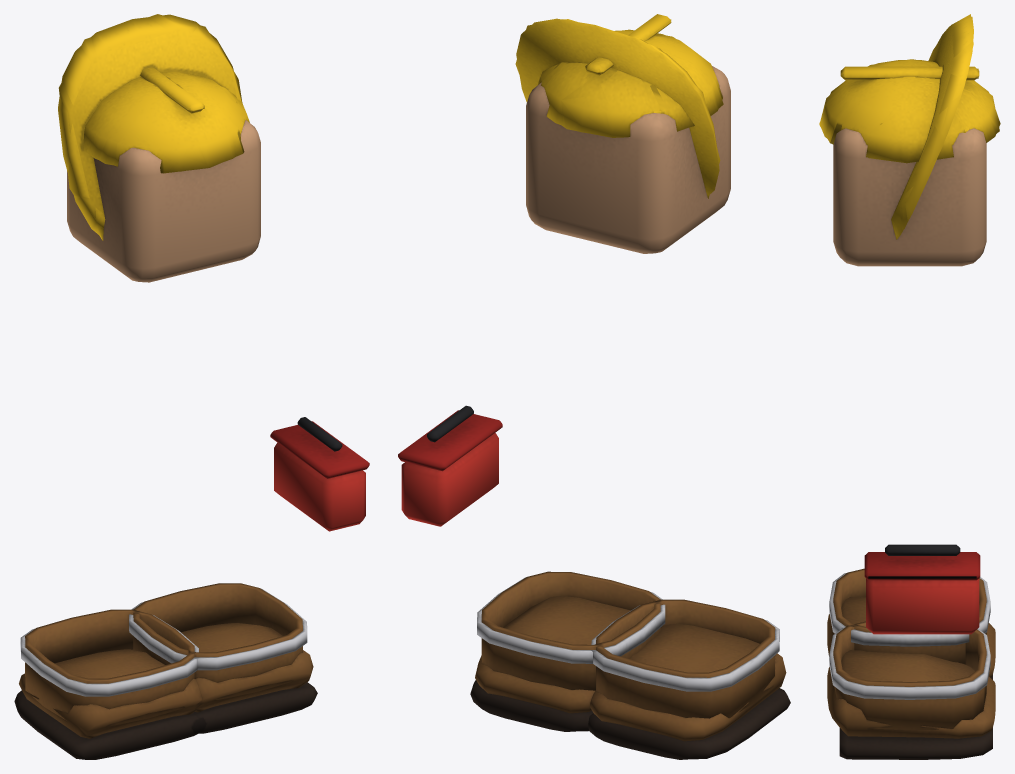
The model's file is Bloque_Oficio_Paco.fbx.
3 views of the same model, side by side, from view 1: azimuth 30°, elevation 25°; view 2: azimuth 150°, elevation 25°; view 3: azimuth 270°, elevation 25° (orthographic). The views are drawn at different scales.
Visible parts, largest first — view 1: CabezaBloque, Casco, CascoLOD, BotaCanaL, BotaCanaR, BotaL, Caja, BotaR; view 2: CabezaBloque, Casco, BotaCanaL, BotaL, BotaCanaR, BotaR, Caja, CascoLOD; view 3: CabezaBloque, Casco, Caja, BotaR, BotaCanaR, CascoLOD, BotaCanaL, BotaL.
Part boxes in pixels (x1,y1,x2,y2): CabezaBloque: (67,120,260,282); Casco: (58,14,249,234); CascoLOD: (58,14,245,240); BotaCanaL: (20,609,198,726); BotaCanaR: (129,583,307,699); BotaL: (14,649,206,759); Caja: (270,417,369,531); BotaR: (181,623,317,733); CabezaBloque: (526,66,730,253); Casco: (516,14,722,196); BotaCanaL: (591,599,779,718); BotaL: (588,623,790,759); BotaCanaR: (477,571,665,690); BotaR: (470,596,630,731); Caja: (398,405,502,526); CascoLOD: (515,19,723,198); CabezaBloque: (833,128,986,266); Casco: (819,16,1000,239); Caja: (864,544,980,634); BotaR: (827,650,995,759); BotaCanaR: (829,621,990,730); CascoLOD: (819,14,999,230); BotaCanaL: (829,568,990,664); BotaL: (827,597,995,679).
Size of the model in its own units: 285 by 590 by 144.
